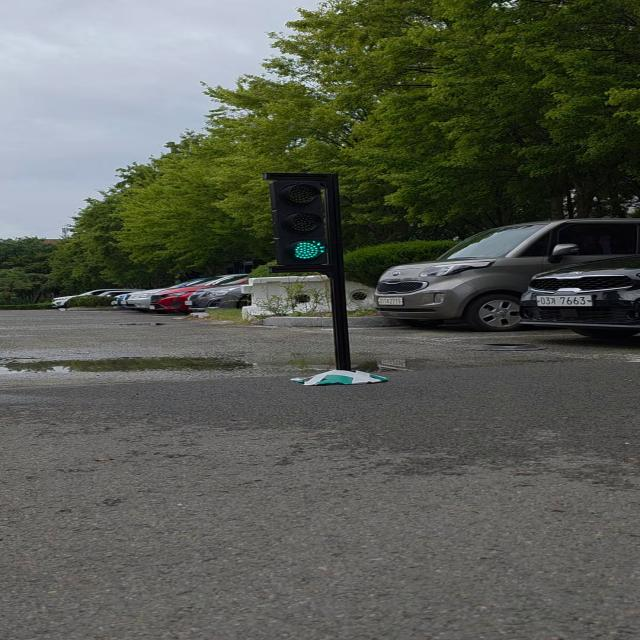green: (274, 174, 341, 270)
